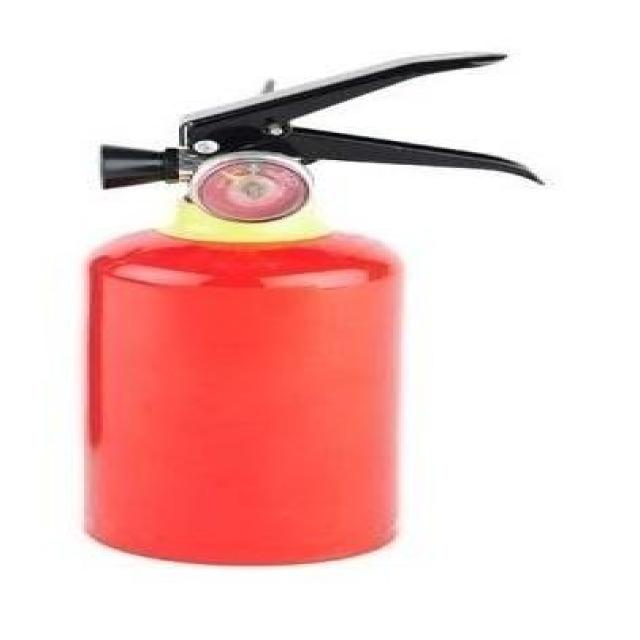fire_extinguisher: (53, 43, 557, 572)
